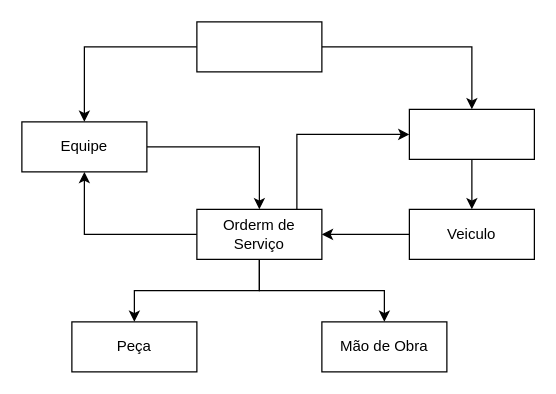
Some shapes in this 556 by 394 pixel diagram are drawn without their labels. Here are the shapes that lost their labels. From the top down, the centre of each, then its label:
[259,46]: Oficina
[471,133]: Cliente
